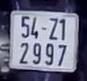1: (60, 17, 67, 41)
2: (19, 41, 29, 64)
4: (30, 16, 39, 40)
5: (19, 15, 31, 40)
7: (56, 43, 68, 67)
9: (44, 42, 55, 66), (32, 42, 42, 65)
Z: (47, 16, 59, 41)
